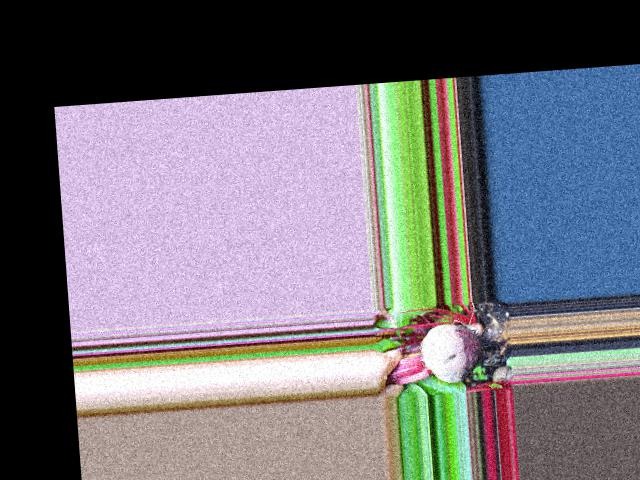beet: (381, 319, 513, 387)
